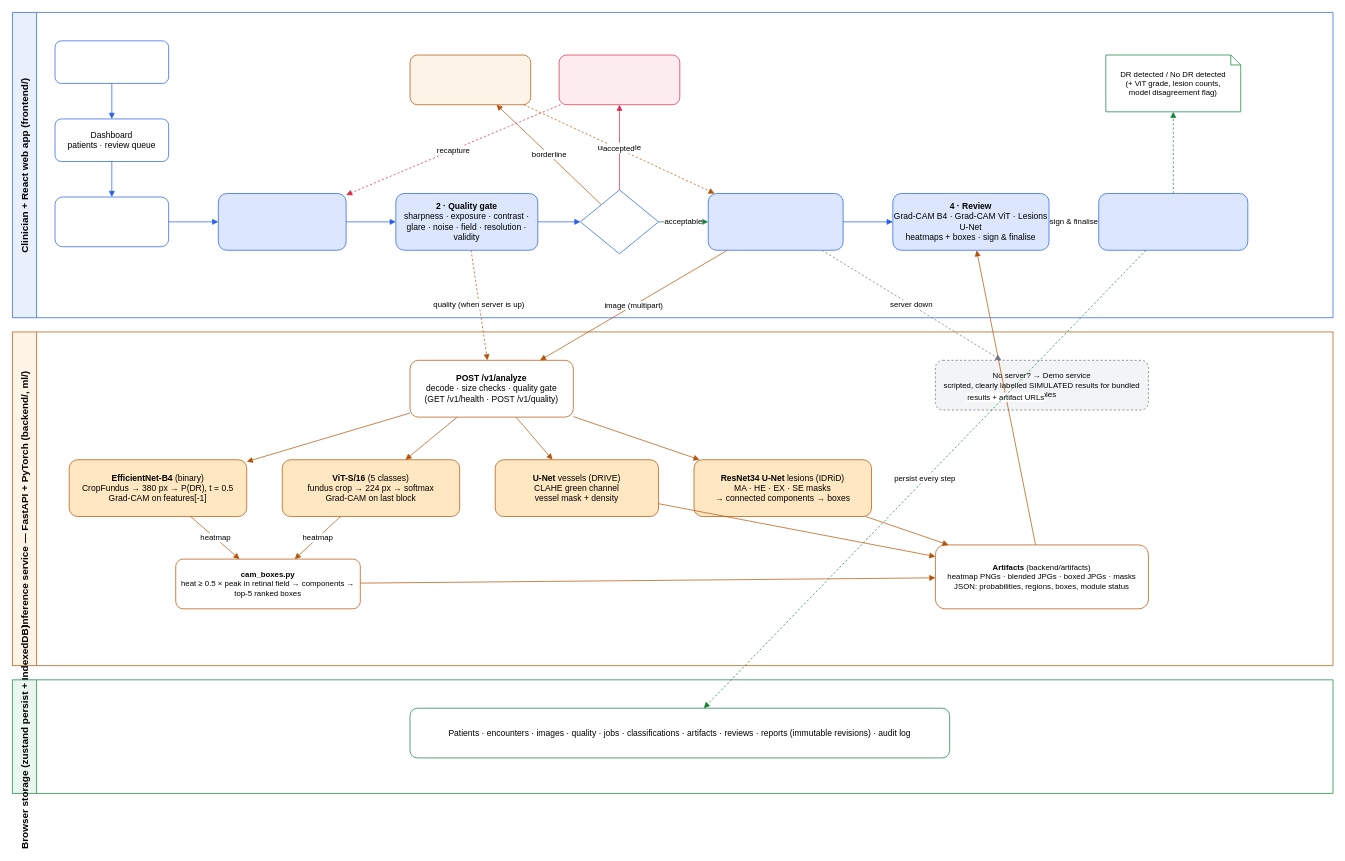
Some shapes in this 1345 by 861 pixel diagram are drawn without their labels. Each missing label, with the centre of its shape:
"1 · Acquire upload · camera · sample JPEG/PNG ≤ 20 MB, SHA-256" belongs at point (282, 221).
"3 · Analyse job per image · module status B4 result + ViT grade" belongs at point (775, 221).
"5 · Report DR verdict banner · evidence images PDF in EN / TE / HI" belongs at point (1173, 221).
"Borderline → clinician accepts with a reason (audited)" belongs at point (470, 79).
"Login / demo access EN · తెలుగు · हिन्दी" belongs at point (111, 61).
"New screening register patient · consent · operator" belongs at point (111, 221).
"Outcome?" belongs at point (619, 221).
"Ungradeable → recapture guidance (or review as “Unable to screen”)" belongs at point (619, 79).
